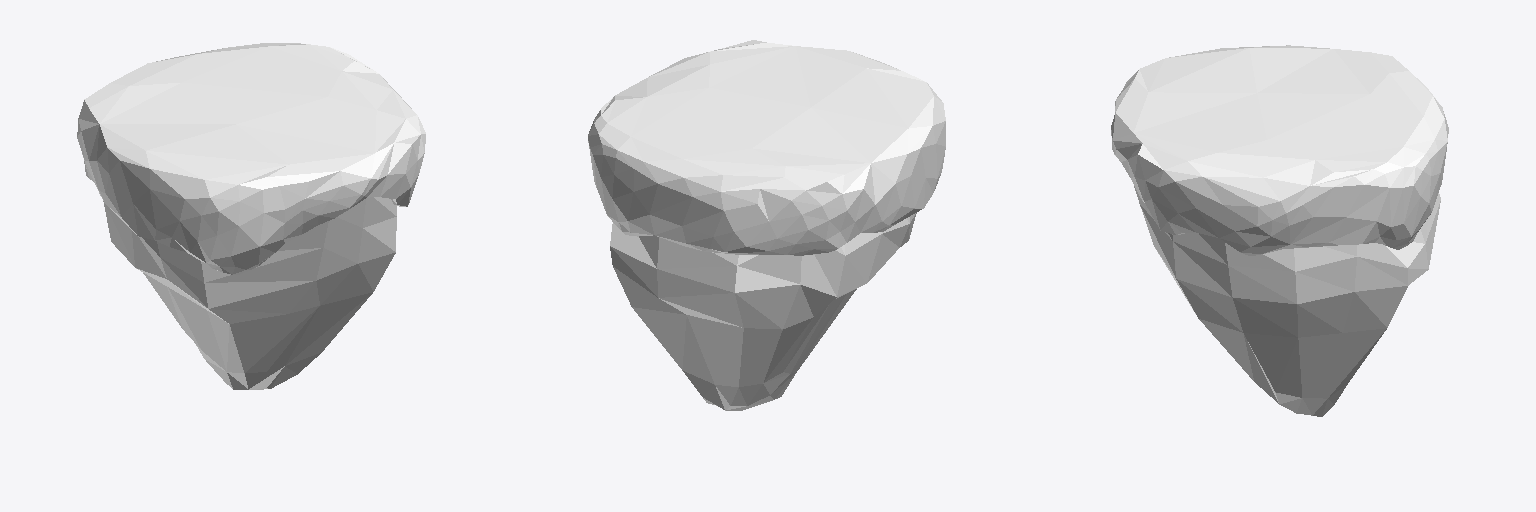
Rendered from SingleIlsland.obj.
The picture shows the model from 3 angles: view 1: azimuth 30°, elevation 25°; view 2: azimuth 150°, elevation 25°; view 3: azimuth 270°, elevation 25°; orthographic projection.
Visible parts, largest first — view 1: SingleIlsland; view 2: SingleIlsland; view 3: SingleIlsland.
Part boxes in pixels (x1,y1,x2,y2): SingleIlsland: (77, 43, 425, 389); SingleIlsland: (588, 40, 945, 410); SingleIlsland: (1111, 45, 1448, 416).
Size of the model in its own units: 9.21 by 8.97 by 9.3.